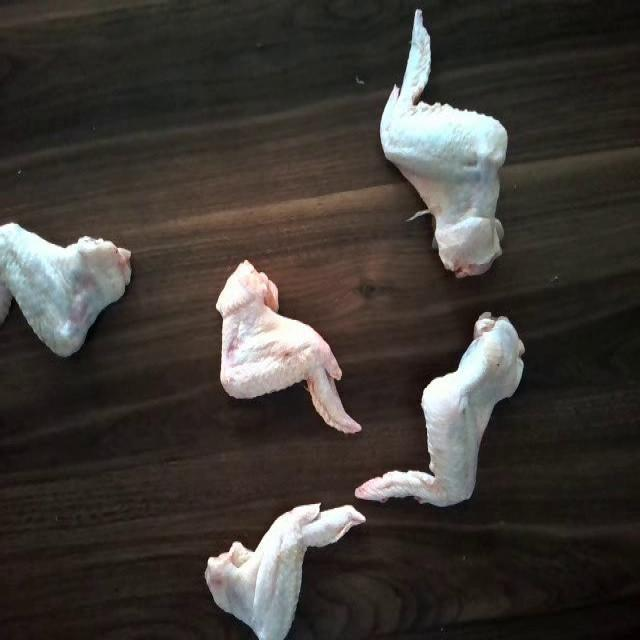wing: (357, 313, 522, 519), (374, 5, 504, 258), (215, 252, 366, 440), (199, 490, 361, 640), (0, 216, 137, 367)
